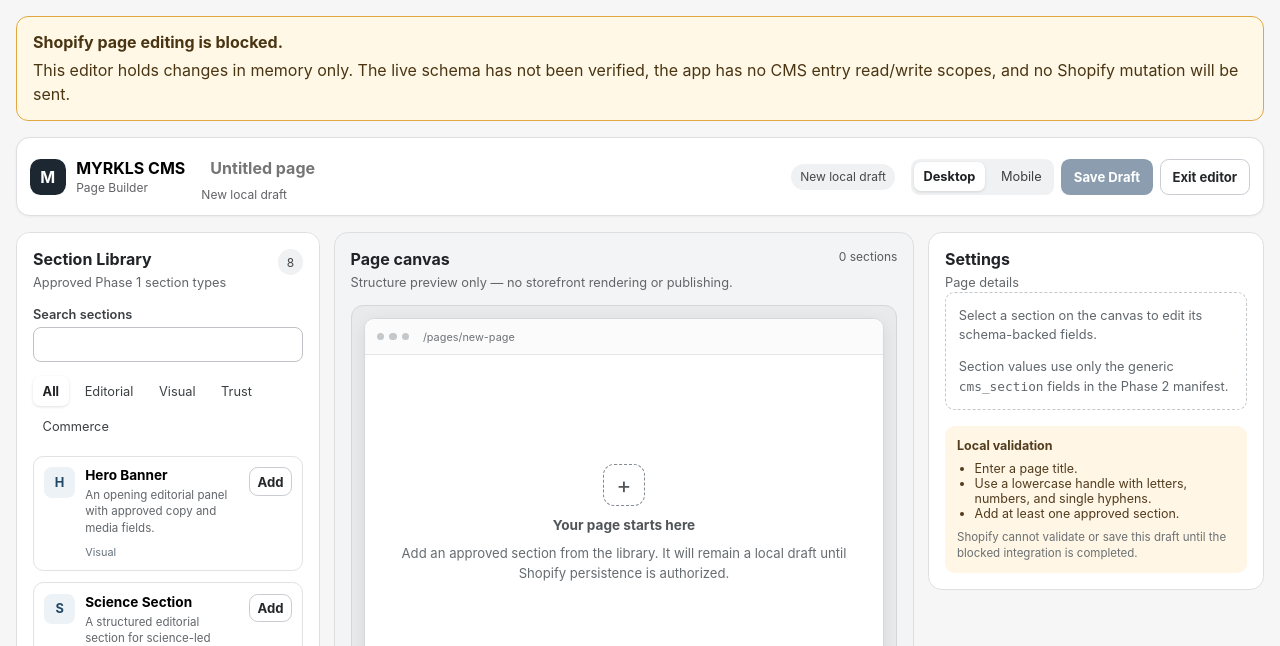
Test: PageBuilderEditor › keeps local edits explicit and never reports a Shopify save
Expected: the text "Shopify page editing is blocked." is shown, x1=33 y1=32 x2=283 y2=52
Expected: the button "Save Draft" is disabled, x1=1061 y1=159 x2=1153 y2=195
Click the button with aria-label "Add Science Section". click: {"x": 270, "y": 608}
box: x1=249 y1=594 x2=292 y2=622
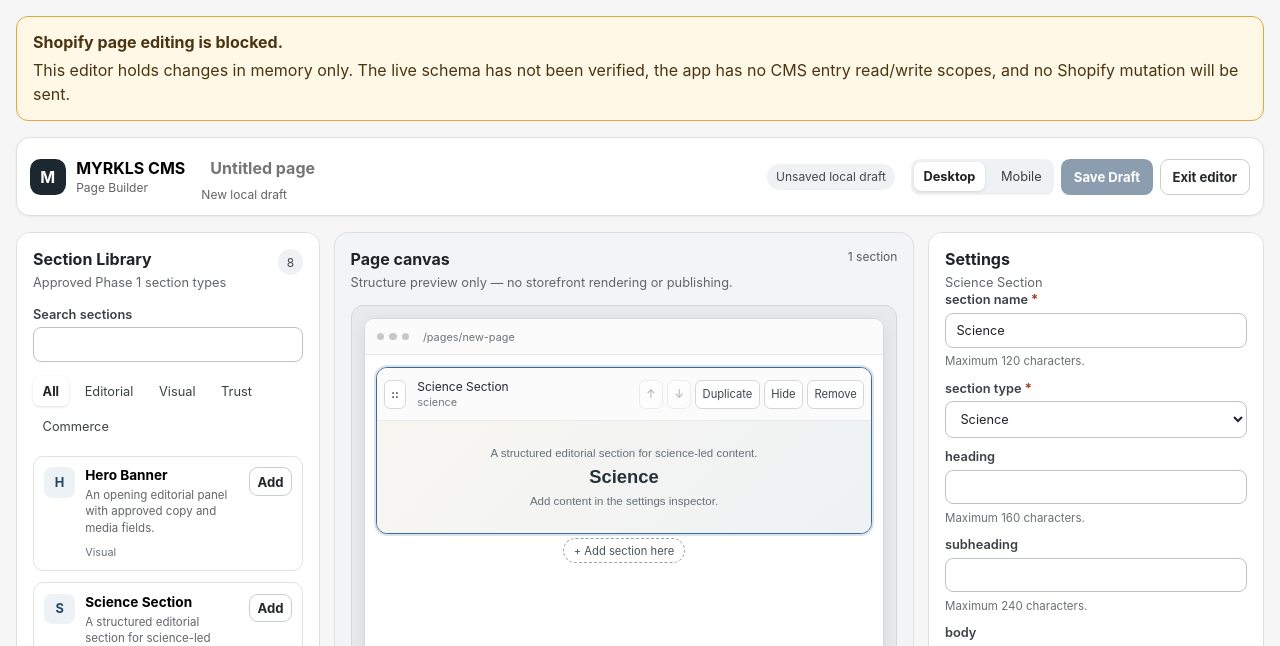
Expected: the button "Save Draft" is disabled, x1=1061 y1=159 x2=1153 y2=195
Expected: the text "Unsaved local draft" is shown, x1=767 y1=164 x2=895 y2=190
Expected: the field labelled "heading Maximum 160 characters." is shown, x1=945 y1=470 x2=1247 y2=504
